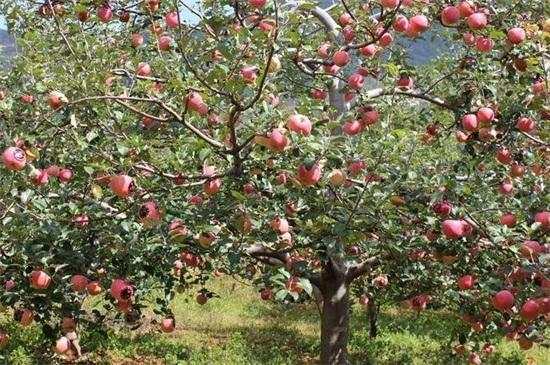apple: (1, 145, 26, 170), (286, 113, 312, 137), (110, 277, 133, 301), (299, 161, 321, 186), (492, 289, 515, 311), (466, 11, 489, 31), (442, 218, 463, 239), (346, 72, 366, 89), (198, 231, 215, 249)
